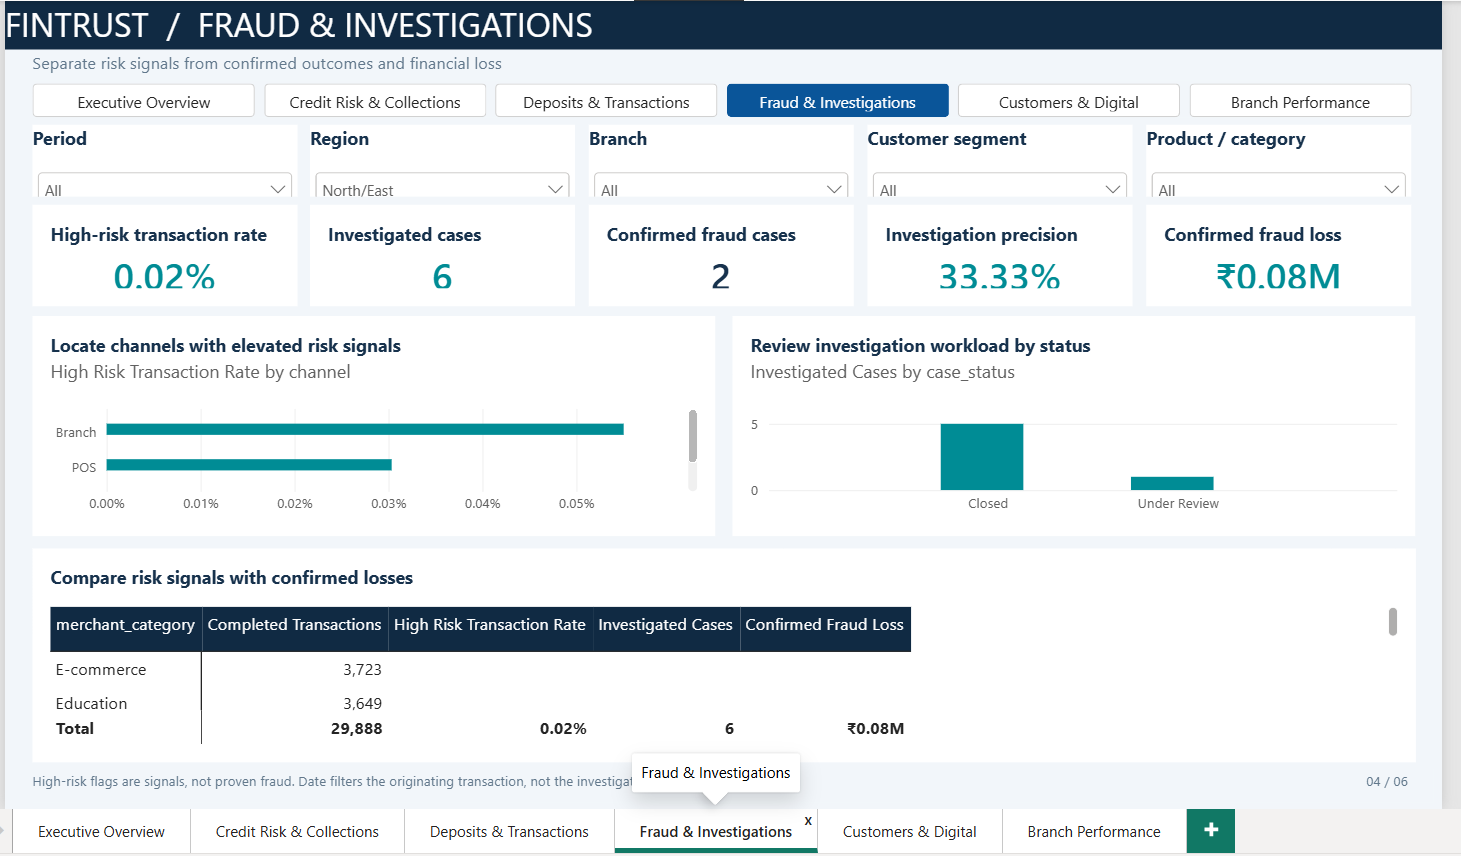

Layout of this report page (visuals, bound fields, positions):
{"tool":"powerbi","page":{"name":"Fraud & Investigations","canvas":[1280,720],"ordinal":3},"visuals":[{"type":"textbox","box":[0,0,1280,43],"z":18},{"type":"textbox","box":[24,45,1232,26],"z":18},{"type":"pageNavigator","box":[24,74,1232,30],"z":18},{"type":"slicer","title":"Period","fields":{"Values":["Date.Year Month"]},"box":[24,110,236,64],"z":18},{"type":"slicer","title":"Region","fields":{"Values":["branches.region"]},"box":[272,110,236,64],"z":18},{"type":"slicer","title":"Branch","fields":{"Values":["branches.branch_name"]},"box":[520,110,236,64],"z":18},{"type":"slicer","title":"Customer segment","fields":{"Values":["customers.occupation_segment"]},"box":[768,110,236,64],"z":18},{"type":"slicer","title":"Product / category","fields":{"Values":["transactions.channel"]},"box":[1016,110,236,64],"z":18},{"type":"card","title":"High-risk transaction rate","fields":{"Values":["transactions.High Risk Transaction Rate"]},"box":[24,182,236,90],"z":18},{"type":"card","title":"Investigated cases","fields":{"Values":["fraud_cases.Investigated Cases"]},"box":[272,182,236,90],"z":18},{"type":"card","title":"Confirmed fraud cases","fields":{"Values":["fraud_cases.Confirmed Fraud Cases"]},"box":[520,182,236,90],"z":18},{"type":"card","title":"Investigation precision","fields":{"Values":["fraud_cases.Investigation Precision"]},"box":[768,182,236,90],"z":18},{"type":"card","title":"Confirmed fraud loss","fields":{"Values":["fraud_cases.Confirmed Fraud Loss"]},"box":[1016,182,236,90],"z":18},{"type":"clusteredBarChart","title":"Locate channels with elevated risk signals","fields":{"Category":["transactions.channel"],"Y":["transactions.High Risk Transaction Rate"]},"box":[24,280,608,196],"z":18},{"type":"clusteredColumnChart","title":"Review investigation workload by status","fields":{"Category":["fraud_cases.case_status"],"Y":["fraud_cases.Investigated Cases"]},"box":[648,280,608,196],"z":18},{"type":"pivotTable","title":"Compare risk signals with confirmed losses","fields":{"Rows":["transactions.merchant_category"],"Values":["transactions.Completed Transactions","transactions.High Risk Transaction Rate","fraud_cases.Investigated Cases","fraud_cases.Confirmed Fraud Loss"]},"box":[24,488,1232,190],"z":18},{"type":"textbox","box":[24,684,1190,30],"z":18},{"type":"textbox","box":[1212,684,60,30],"z":18}]}

Visuals, with their boxes on the page's 1280x720 design canvas (x1, y1, x2, y2). These are canvas units, not pixel positions in the 1461x856 screenshot, which may show the page scaled, cropped or inside an application window:
textbox: (left=0, top=0, right=1280, bottom=43)
textbox: (left=24, top=45, right=1256, bottom=71)
pageNavigator: (left=24, top=74, right=1256, bottom=104)
"Period" slicer: (left=24, top=110, right=260, bottom=174)
"Region" slicer: (left=272, top=110, right=508, bottom=174)
"Branch" slicer: (left=520, top=110, right=756, bottom=174)
"Customer segment" slicer: (left=768, top=110, right=1004, bottom=174)
"Product / category" slicer: (left=1016, top=110, right=1252, bottom=174)
"High-risk transaction rate" card: (left=24, top=182, right=260, bottom=272)
"Investigated cases" card: (left=272, top=182, right=508, bottom=272)
"Confirmed fraud cases" card: (left=520, top=182, right=756, bottom=272)
"Investigation precision" card: (left=768, top=182, right=1004, bottom=272)
"Confirmed fraud loss" card: (left=1016, top=182, right=1252, bottom=272)
"Locate channels with elevated risk signals" clusteredBarChart: (left=24, top=280, right=632, bottom=476)
"Review investigation workload by status" clusteredColumnChart: (left=648, top=280, right=1256, bottom=476)
"Compare risk signals with confirmed losses" pivotTable: (left=24, top=488, right=1256, bottom=678)
textbox: (left=24, top=684, right=1214, bottom=714)
textbox: (left=1212, top=684, right=1272, bottom=714)
